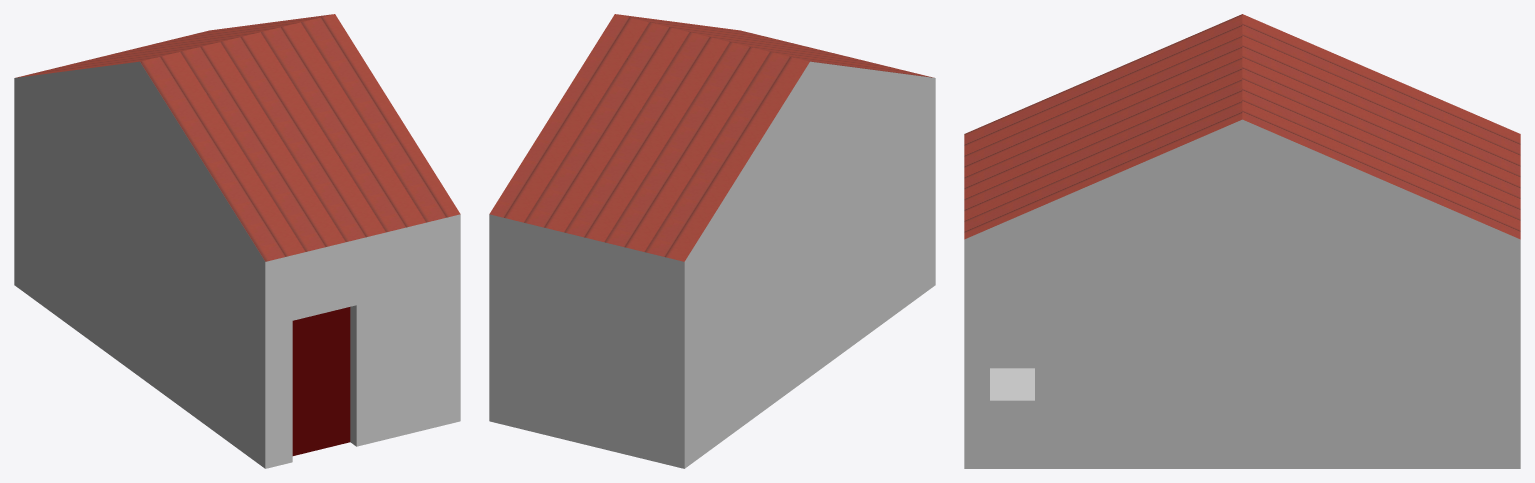
File: casinha.obj
The picture shows the model from 3 angles, left to right: view 1: azimuth 30°, elevation 25°; view 2: azimuth 150°, elevation 25°; view 3: azimuth 270°, elevation 25°; orthographic projection. The views are drawn at different scales.
Parts seen in each view (by area): view 1: Mesh1 Group1 Model; view 2: Mesh1 Group1 Model; view 3: Mesh1 Group1 Model.
Boxes of the visible parts, bbox=[...] form: Mesh1 Group1 Model: bbox=[14, 14, 460, 468]; Mesh1 Group1 Model: bbox=[489, 14, 935, 468]; Mesh1 Group1 Model: bbox=[964, 14, 1520, 468].
Bounding box in the file's own units: 2.96 × 4.57 × 6.59.
Materials: 3 (1 with a texture image).
